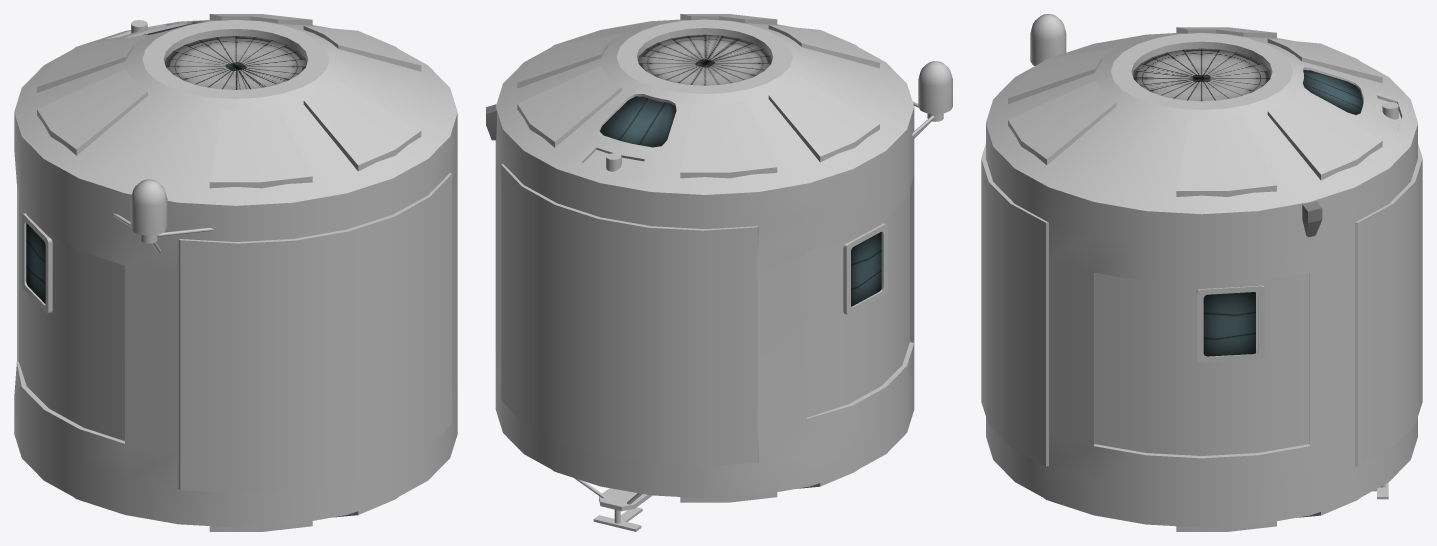
The model's file is Apollo_Block3_MissionModule.dae.
3 views of the same model, side by side, from view 1: azimuth 30°, elevation 25°; view 2: azimuth 150°, elevation 25°; view 3: azimuth 270°, elevation 25° (orthographic). The views are drawn at different scales.
Parts seen in each view (by area): view 1: Hull, Windows; view 2: Hull, Windows; view 3: Hull, Windows, Spotlight.
Part boxes in pixels (x1=…): Hull: x1=14, y1=14, x2=457, y2=531; Windows: x1=26, y1=23, x2=307, y2=303; Hull: x1=495, y1=14, x2=952, y2=531; Windows: x1=600, y1=34, x2=881, y2=306; Hull: x1=981, y1=14, x2=1422, y2=531; Windows: x1=1132, y1=48, x2=1362, y2=356; Spotlight: x1=1302, y1=201, x2=1322, y2=237.
Size of what is drawn, in the model's own units: 1.88 by 2 by 1.92.
